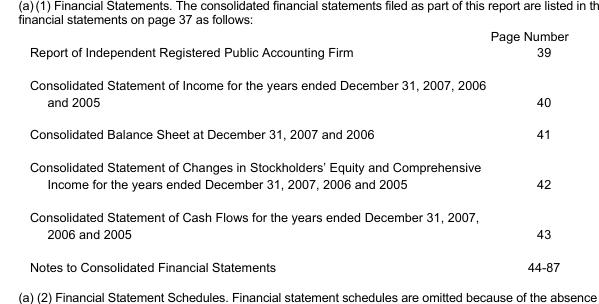table: (28, 28, 567, 273)
table column: (28, 28, 448, 273), (448, 28, 567, 273)
table column header: (28, 28, 567, 43)
table projected row header: (28, 67, 567, 92), (28, 149, 567, 174), (28, 199, 567, 224)
table row: (28, 117, 567, 149), (28, 67, 567, 92), (28, 92, 567, 117), (28, 149, 567, 174), (28, 174, 567, 199), (28, 199, 567, 224), (28, 224, 567, 249), (28, 43, 567, 67), (28, 249, 567, 273), (28, 28, 567, 43)
